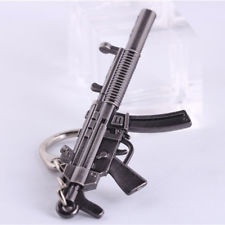ak47: (58, 9, 192, 221)
